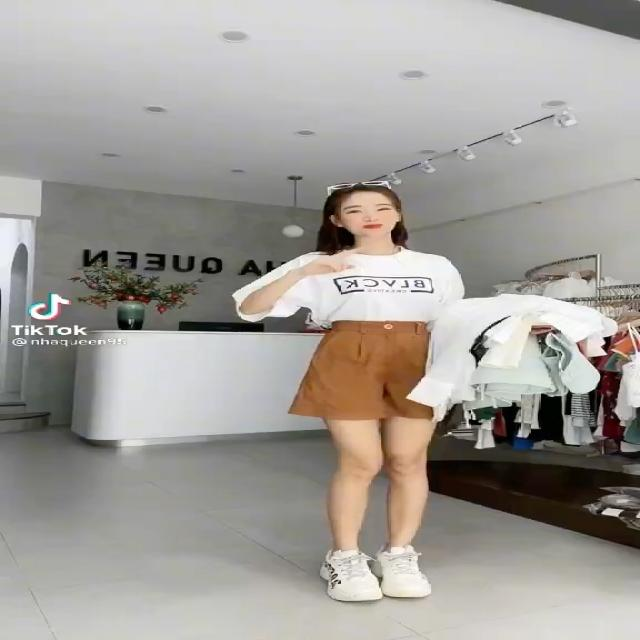clothes: (234, 251, 467, 422)
